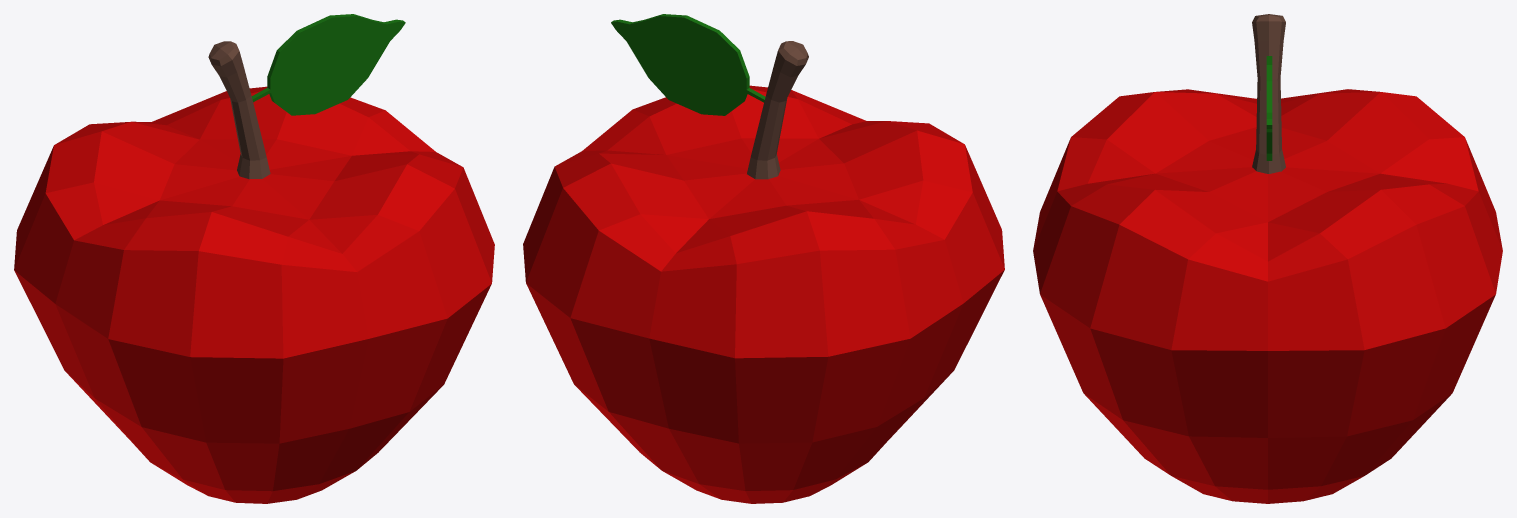
The model's file is Apple.glb.
3 views of the same model, side by side, from view 1: azimuth 30°, elevation 25°; view 2: azimuth 150°, elevation 25°; view 3: azimuth 270°, elevation 25° (orthographic). The views are drawn at different scales.
Parts seen in each view (by area): view 1: Apple_Green; view 2: Apple_Green; view 3: Apple_Green.
Boxes of the visible parts, <box> form: Apple_Green: <box>14,14,494,503</box>; Apple_Green: <box>523,14,1004,503</box>; Apple_Green: <box>1033,14,1502,503</box>.
Size of the model in its own units: 0.8025 by 0.8517 by 0.7987.
